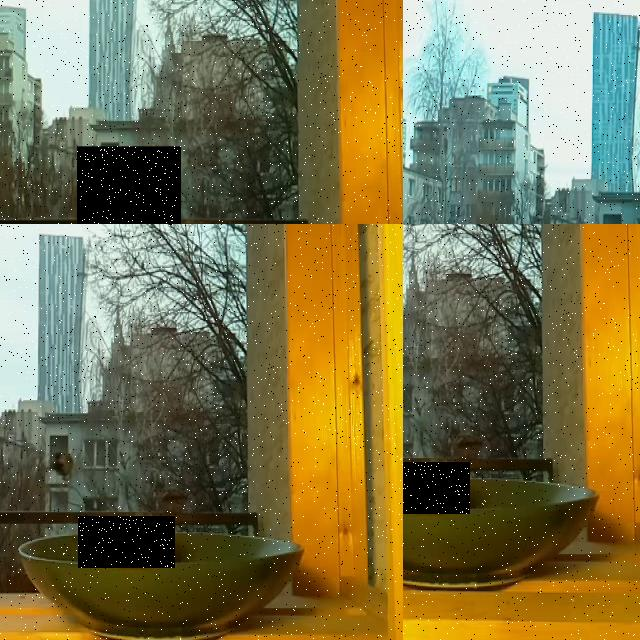Modraszka: (78, 516, 175, 568), (403, 462, 470, 514)
Wrobel: (77, 146, 181, 224)
